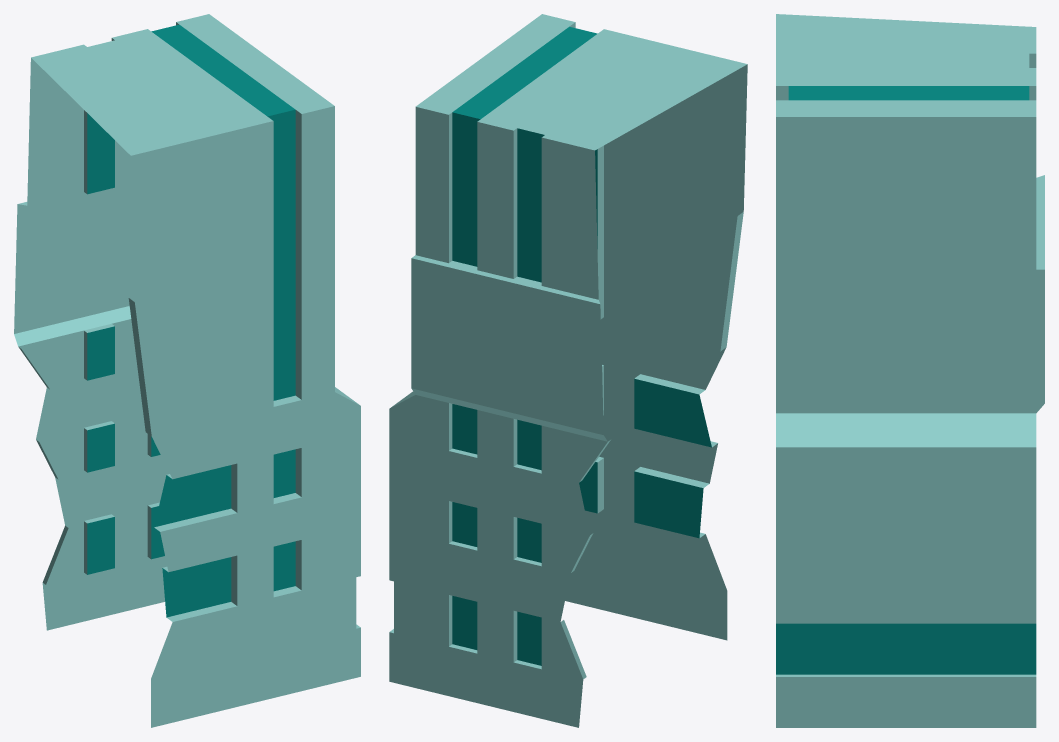
Rendered from ruines3.FBX.
The picture shows the model from 3 angles, left to right: view 1: azimuth 30°, elevation 25°; view 2: azimuth 150°, elevation 25°; view 3: azimuth 270°, elevation 25°; orthographic projection. The views are drawn at different scales.
Parts seen in each view (by area): view 1: Box001; view 2: Box001; view 3: Box001.
Boxes of the visible parts, bbox=[...] form: Box001: bbox=[14, 14, 360, 727]; Box001: bbox=[389, 14, 747, 727]; Box001: bbox=[776, 14, 1044, 727].
Size of the model in its own units: 41.59 by 99.68 by 40.65.
